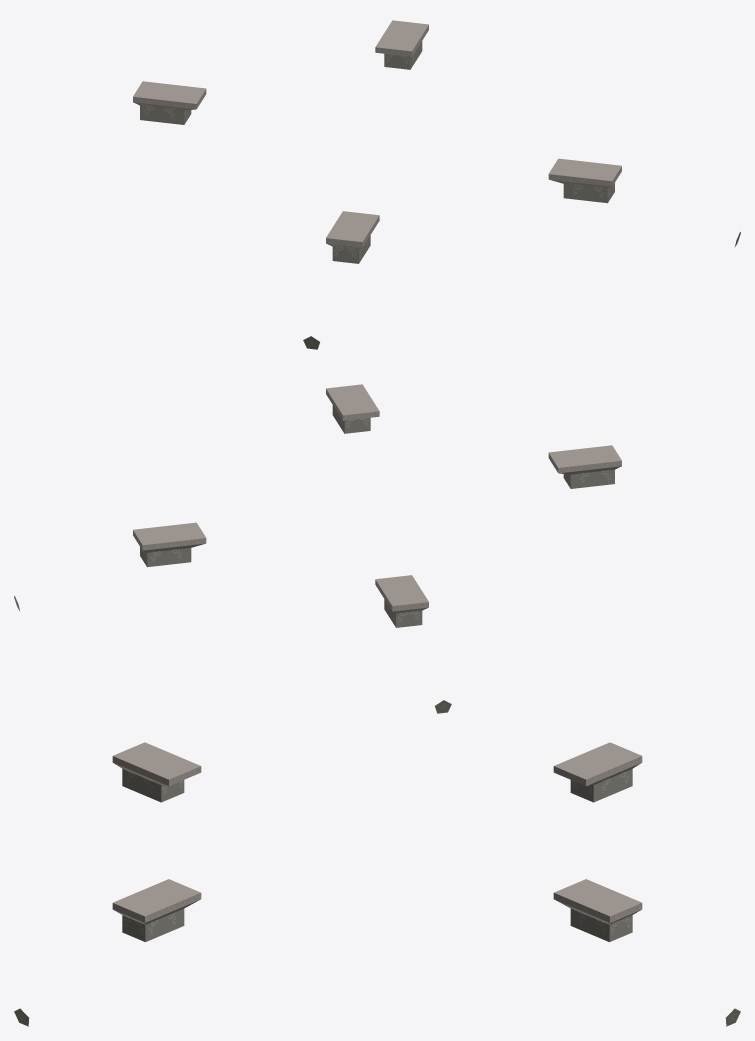
Rendered from kd_stage_135ded_4_97_bounded.glb.
3 renders of one model, top to bottom at view 1: azimuth 30°, elevation 25°; view 2: azimuth 150°, elevation 25°; view 3: azimuth 270°, elevation 25°, orthographic. The views are drawn at different scales.
Parts seen in each view (by area): view 1: kd_stage_135ded_4_97_bounded; view 2: kd_stage_135ded_4_97_bounded; view 3: kd_stage_135ded_4_97_bounded.
Boxes of the visible parts, bbox=[...] form: kd_stage_135ded_4_97_bounded: bbox=[133, 20, 740, 349]; kd_stage_135ded_4_97_bounded: bbox=[14, 384, 621, 713]; kd_stage_135ded_4_97_bounded: bbox=[14, 742, 740, 1026].
Size of the model in its own units: 6.73 by 0.8631 by 8.03.
Materials: 1 (1 with a texture image).
